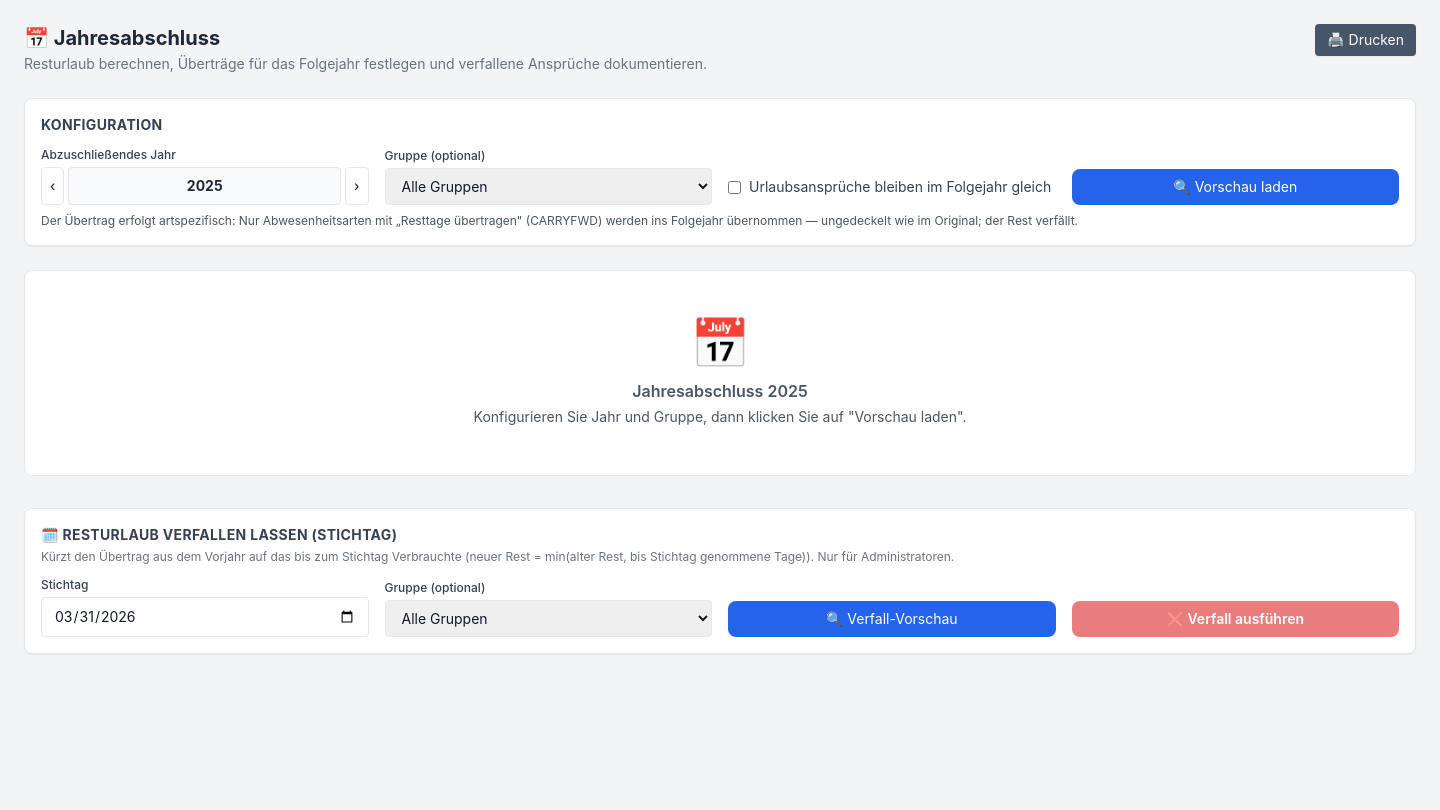
Jahresabschluss page — Optionen (V-17) und Verfall (V-13) › Verfall-Vorschau ruft forfeit mit dry_run=true und zeigt Kürzungen alt→neu
Click the button "🔍 Verfall-Vorschau" at (892, 619), box [728,601,1056,637]
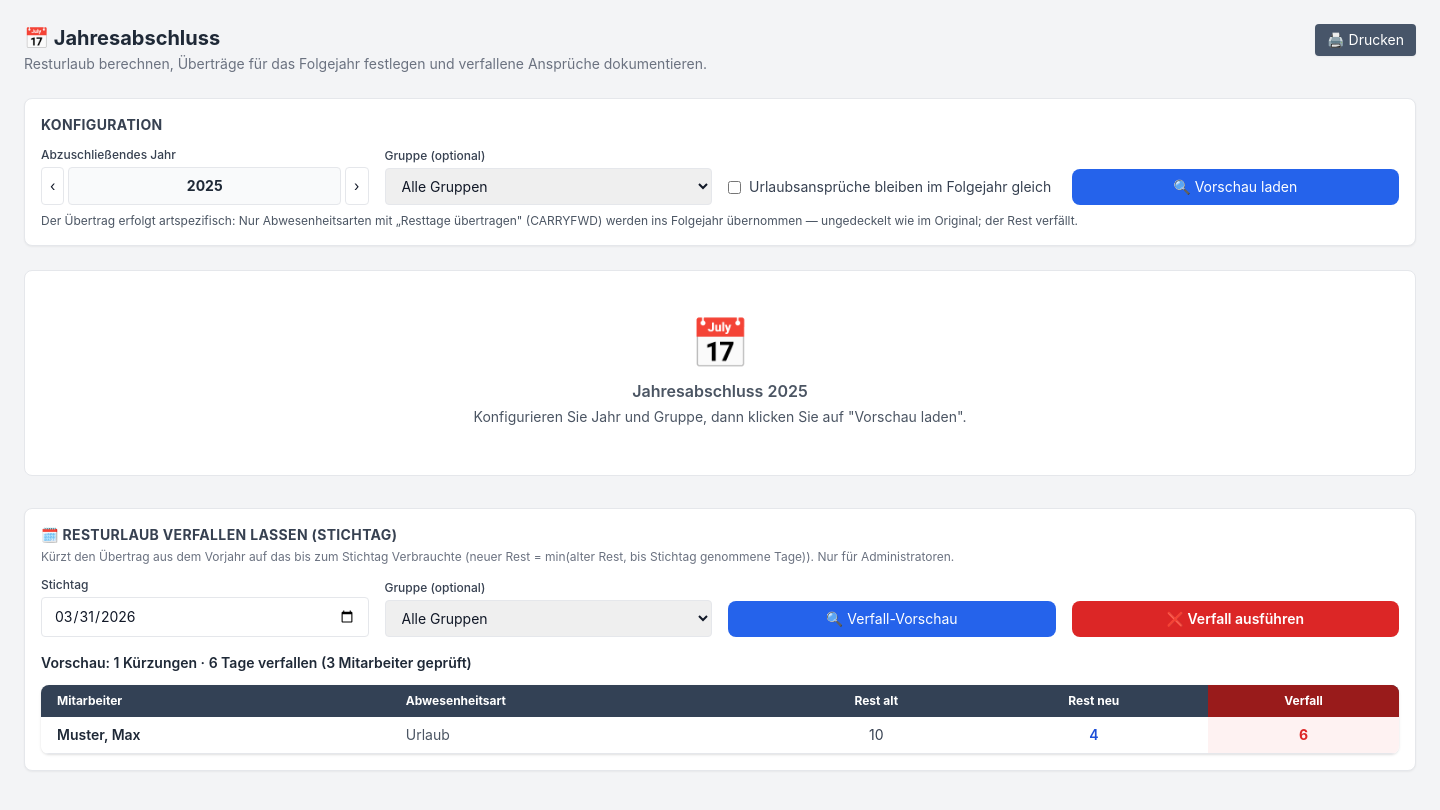
Check: the text "Muster, Max" is shown, box [41,717,394,754]
Check: the text "Urlaub" is shown, box [394,717,773,754]
Check: the text "10" is shown, box [773,717,980,754]
